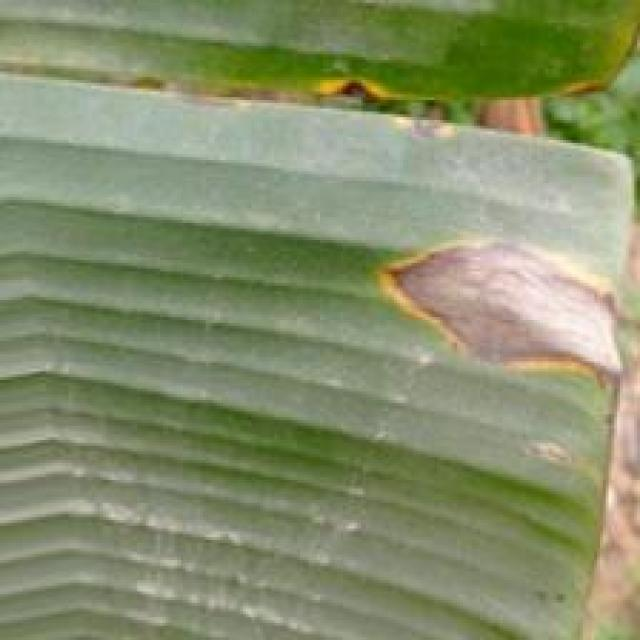Bacterial_spot: (369, 223, 640, 411), (511, 423, 621, 496), (308, 65, 406, 122), (542, 56, 608, 106)
